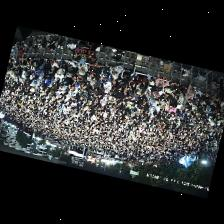person: (120, 58, 136, 80), (55, 60, 66, 80), (32, 62, 44, 78), (132, 73, 146, 86), (61, 71, 71, 89), (160, 86, 172, 100), (89, 63, 101, 77), (155, 77, 168, 89), (109, 64, 121, 77), (65, 60, 77, 73), (168, 81, 178, 94), (127, 76, 135, 92), (99, 69, 108, 83), (88, 73, 99, 84), (102, 63, 110, 78), (148, 84, 158, 96), (159, 94, 172, 103), (117, 79, 126, 92), (76, 72, 86, 83), (78, 62, 87, 74), (49, 58, 58, 70), (104, 77, 111, 92), (176, 92, 183, 107), (91, 78, 100, 89), (110, 74, 119, 85), (34, 57, 43, 68), (201, 92, 210, 103), (185, 91, 193, 103), (140, 92, 148, 104), (194, 87, 201, 100), (147, 93, 154, 106), (134, 86, 143, 96), (144, 86, 152, 97), (116, 92, 124, 102), (187, 84, 195, 94), (160, 99, 167, 110), (209, 93, 216, 104), (147, 75, 155, 84), (100, 93, 106, 105), (177, 85, 186, 93), (20, 70, 26, 81), (19, 57, 26, 66), (89, 43, 98, 50), (14, 57, 21, 64)
